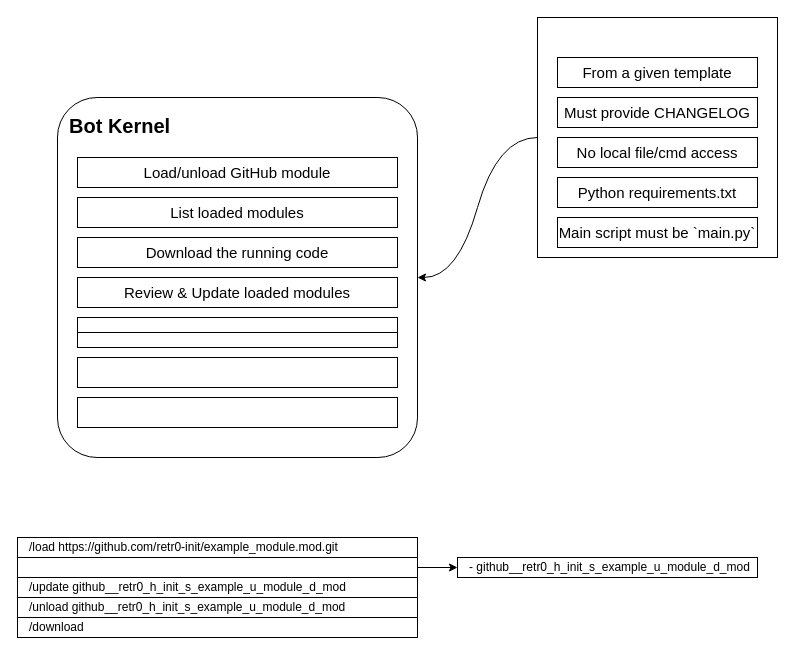
Image size: 795x655. Some labels were removed from this diagram. The box of each missing label's shape, as (x1, y1, x2, y2) in pixels:
/list installed_module: (16, 556, 418, 578)
Module on GitHub: (536, 16, 778, 258)
Vote to load/unload module (Not essential): (76, 316, 398, 348)
